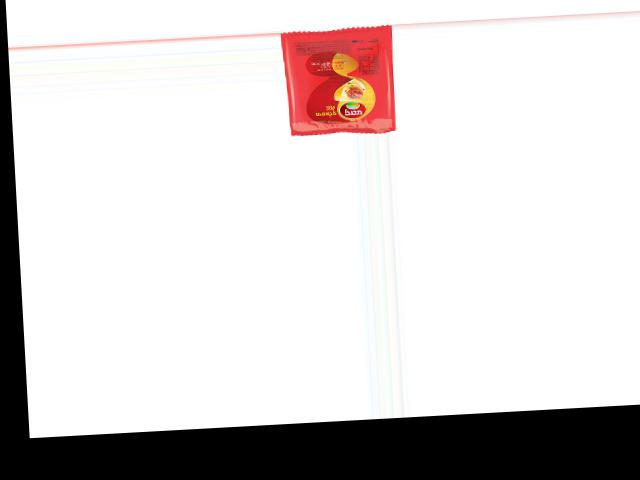cheese: (284, 24, 398, 136)
